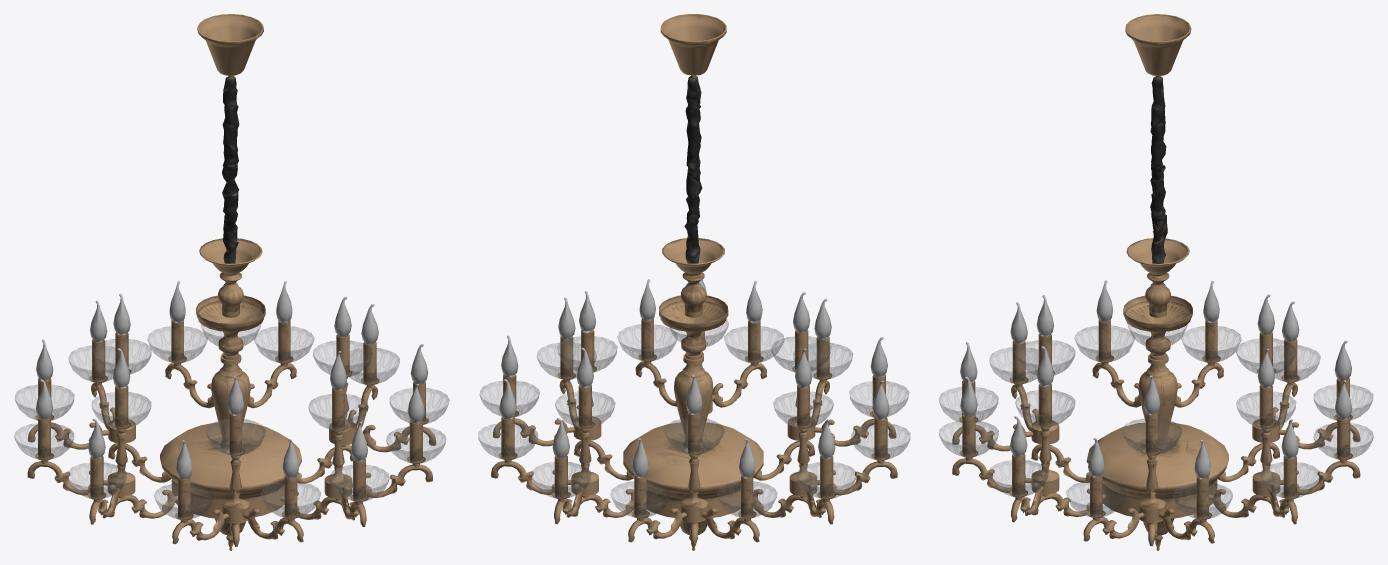
Rendered from chandelier_03.glb.
The picture shows the model from 3 angles, left to right: view 1: azimuth 30°, elevation 25°; view 2: azimuth 150°, elevation 25°; view 3: azimuth 270°, elevation 25°; orthographic projection.
Parts seen in each view (by area): view 1: Chandelier_03; view 2: Chandelier_03; view 3: Chandelier_03.
Part boxes in pixels (x1,y1,x2,y2): Chandelier_03: (14,14,449,550); Chandelier_03: (478,14,910,550); Chandelier_03: (939,14,1373,550).
Bounding box in the file's own units: 0.7808 × 1.04 × 0.7851.
Materials: 2 (2 with a texture image).
